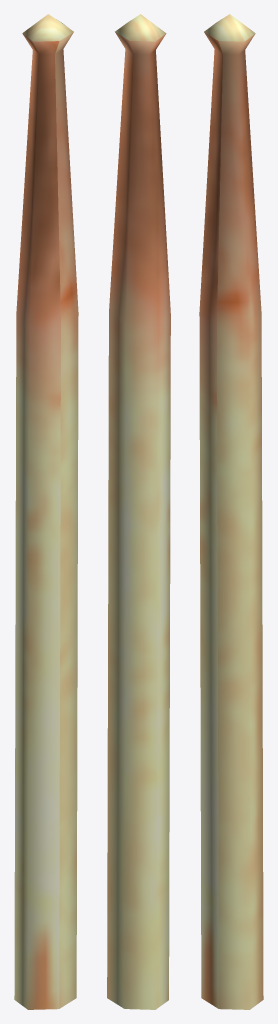
The model's file is DrumStick.fbx.
3 renders of one model, left to right at view 1: azimuth 30°, elevation 25°; view 2: azimuth 150°, elevation 25°; view 3: azimuth 330°, elevation 25°, orthographic.
Visible parts, largest first — view 1: Drumsticks.001; view 2: Drumsticks.001; view 3: Drumsticks.001.
Boxes of the visible parts, x1,y1,x2,y2 form: Drumsticks.001: (14,14,78,1009); Drumsticks.001: (107,14,170,1009); Drumsticks.001: (199,14,263,1009).
Size of the model in its own units: 2 by 38.85 by 2.07.
